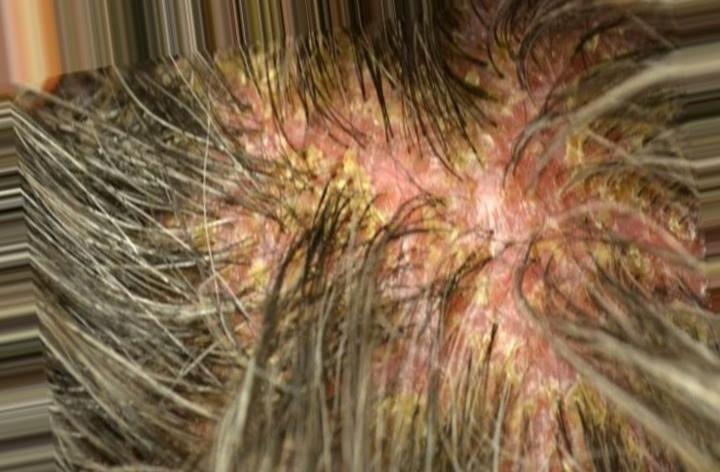Folliculitis: (203, 60, 626, 335)
